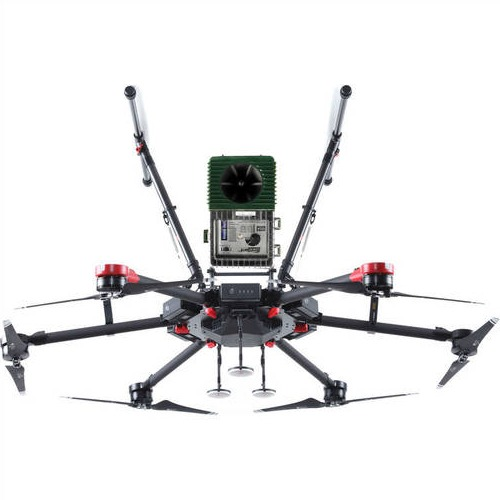drone: (0, 87, 500, 415)
